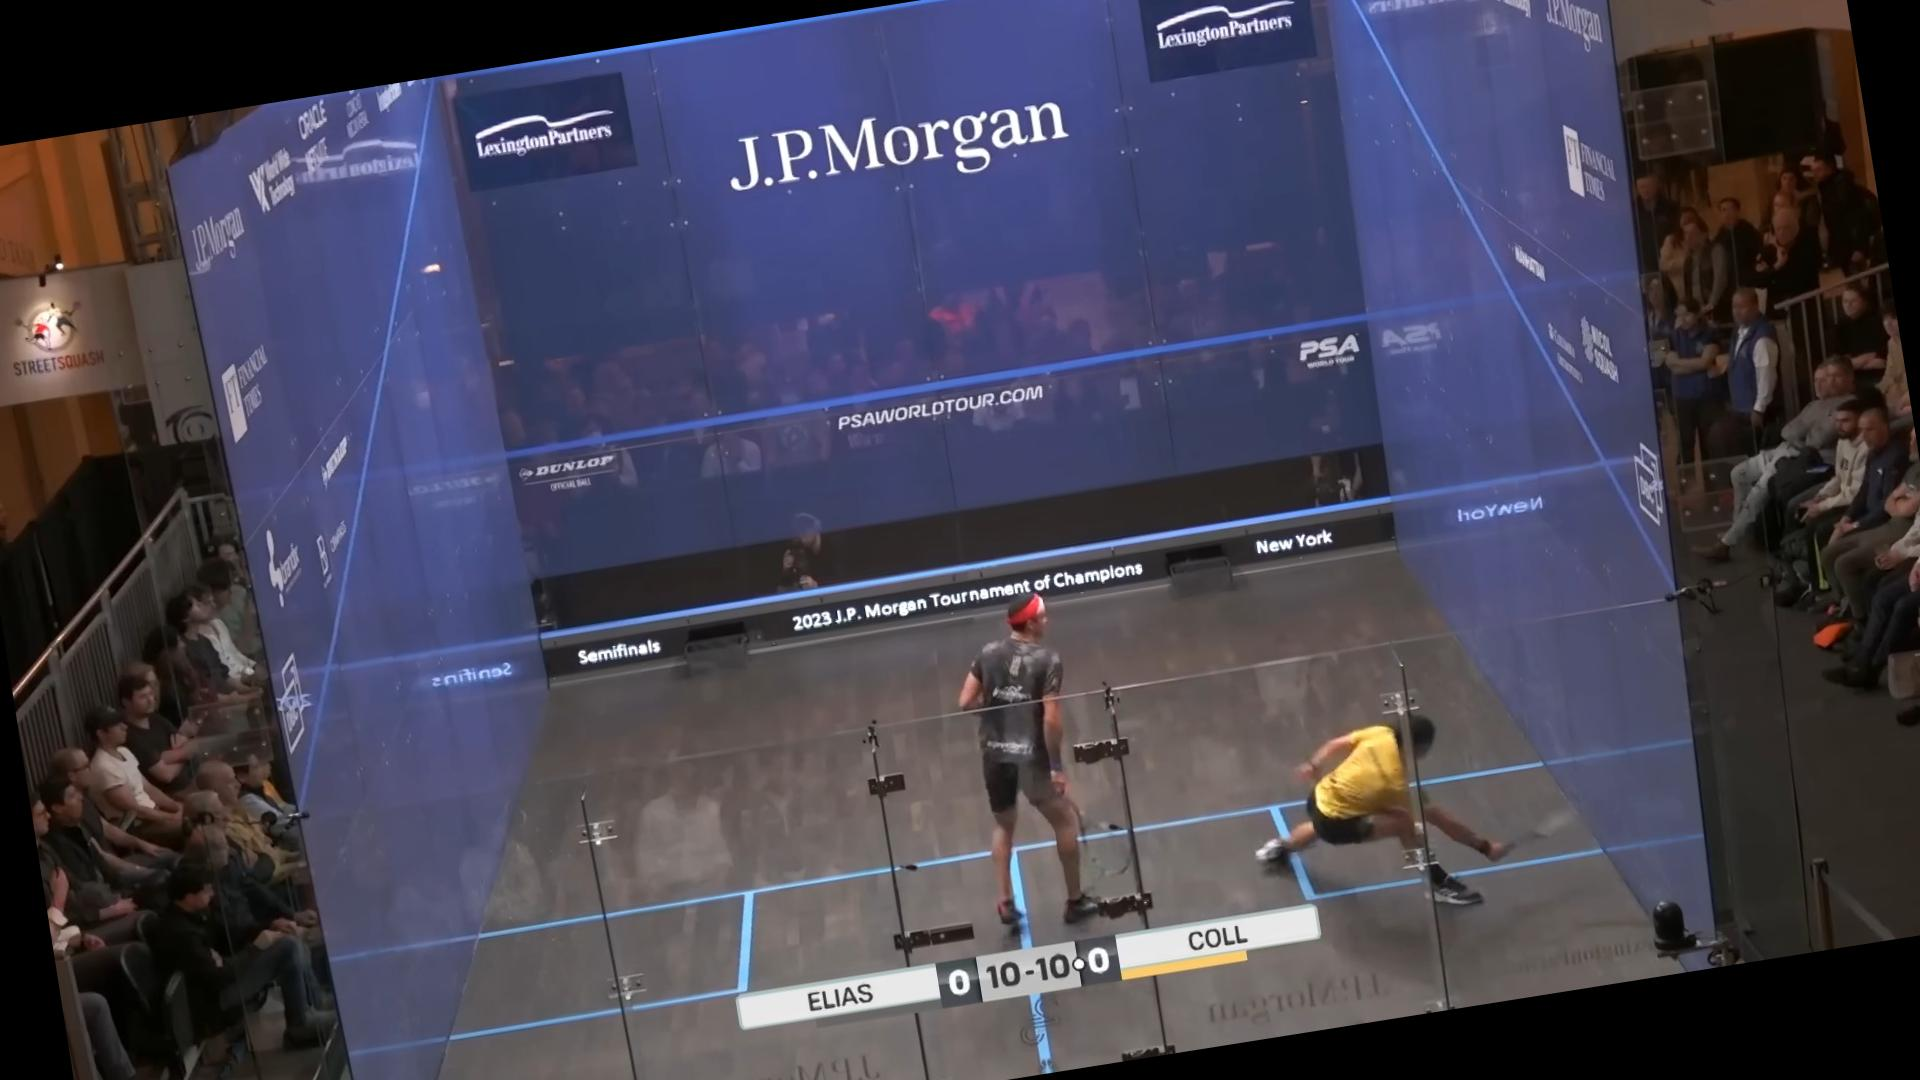Racket: (1055, 793, 1130, 899), (1505, 814, 1625, 880)
